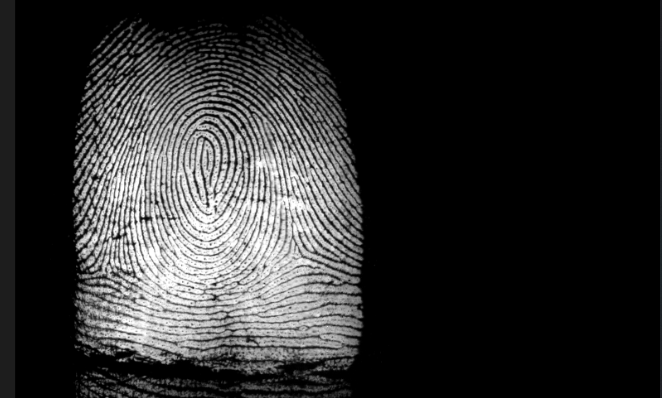nucelo: (193, 132, 215, 160)
verticilo: (286, 236, 307, 261), (94, 257, 114, 280)
